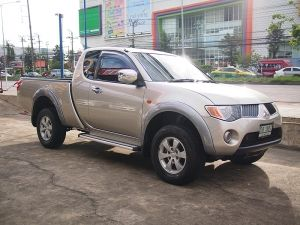pickup: (14, 45, 285, 185)
